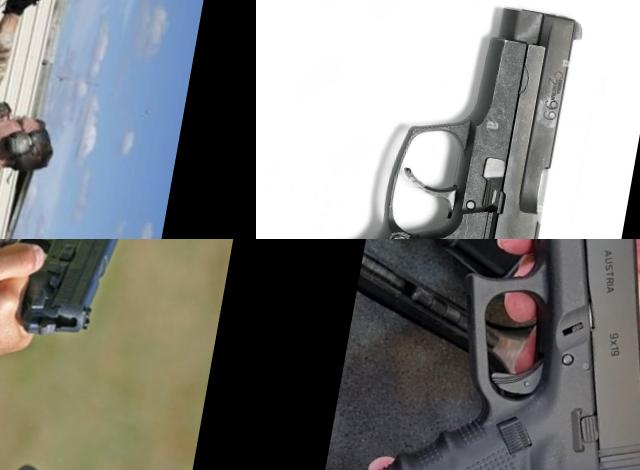handgun: (256, 0, 590, 239), (332, 239, 640, 470), (0, 239, 131, 349), (16, 0, 53, 31)
